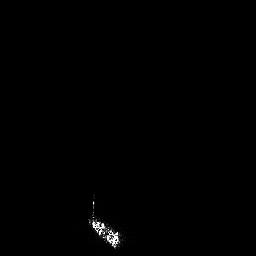ship: (85, 194, 125, 251)
